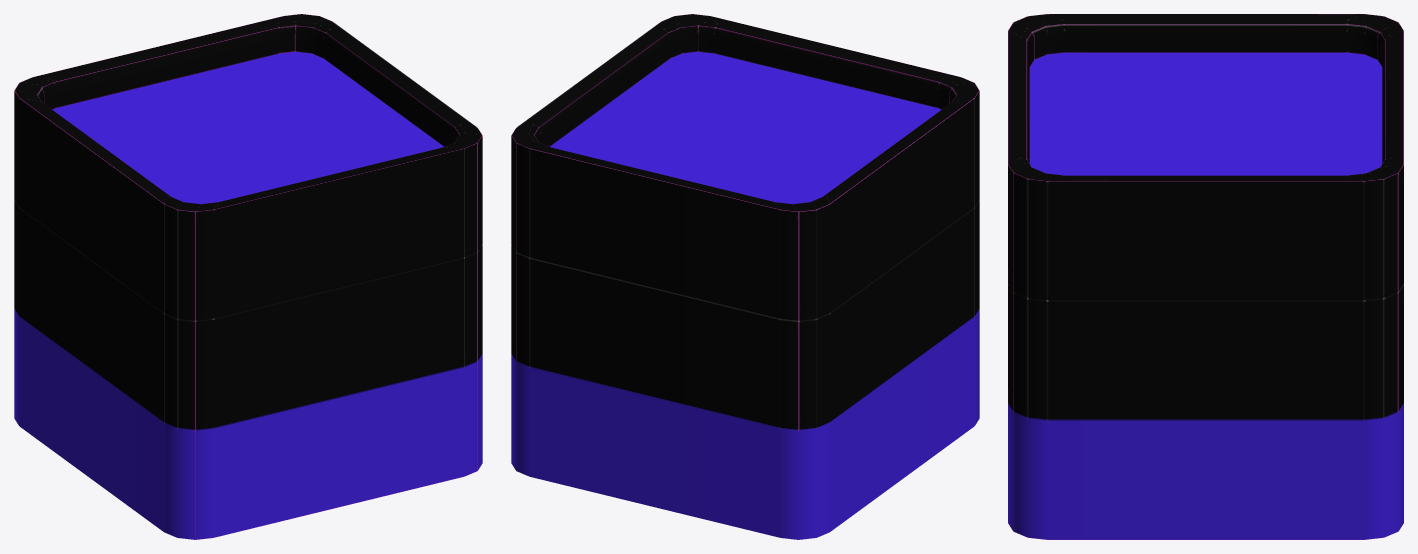
File: StageBlueLv1.fbx
3 views of the same model, side by side, from view 1: azimuth 30°, elevation 25°; view 2: azimuth 150°, elevation 25°; view 3: azimuth 270°, elevation 25° (orthographic). The views are drawn at different scales.
Visible parts, largest first — view 1: pCube1; view 2: pCube1; view 3: pCube1.
Boxes of the visible parts, <box> form: pCube1: <box>14,14,482,539</box>; pCube1: <box>511,14,979,539</box>; pCube1: <box>1008,14,1403,539</box>.
Bounding box in the file's own units: 1 × 1 × 1.
1 material, 1 textured.
